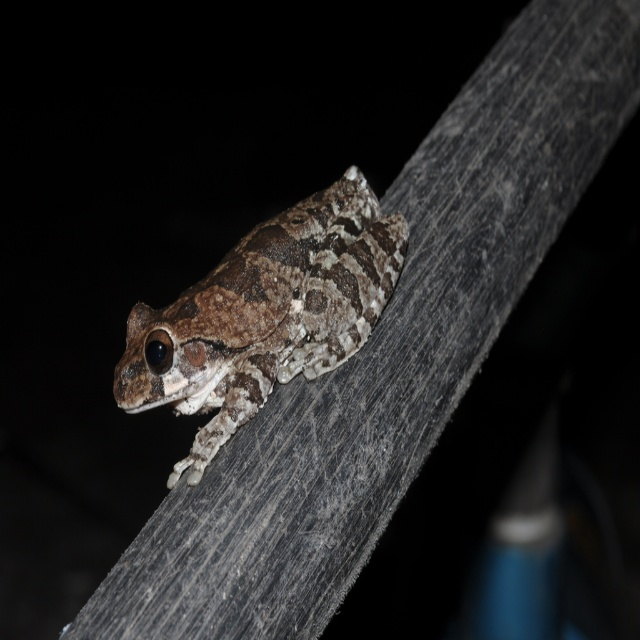Frog: (112, 165, 410, 488)
